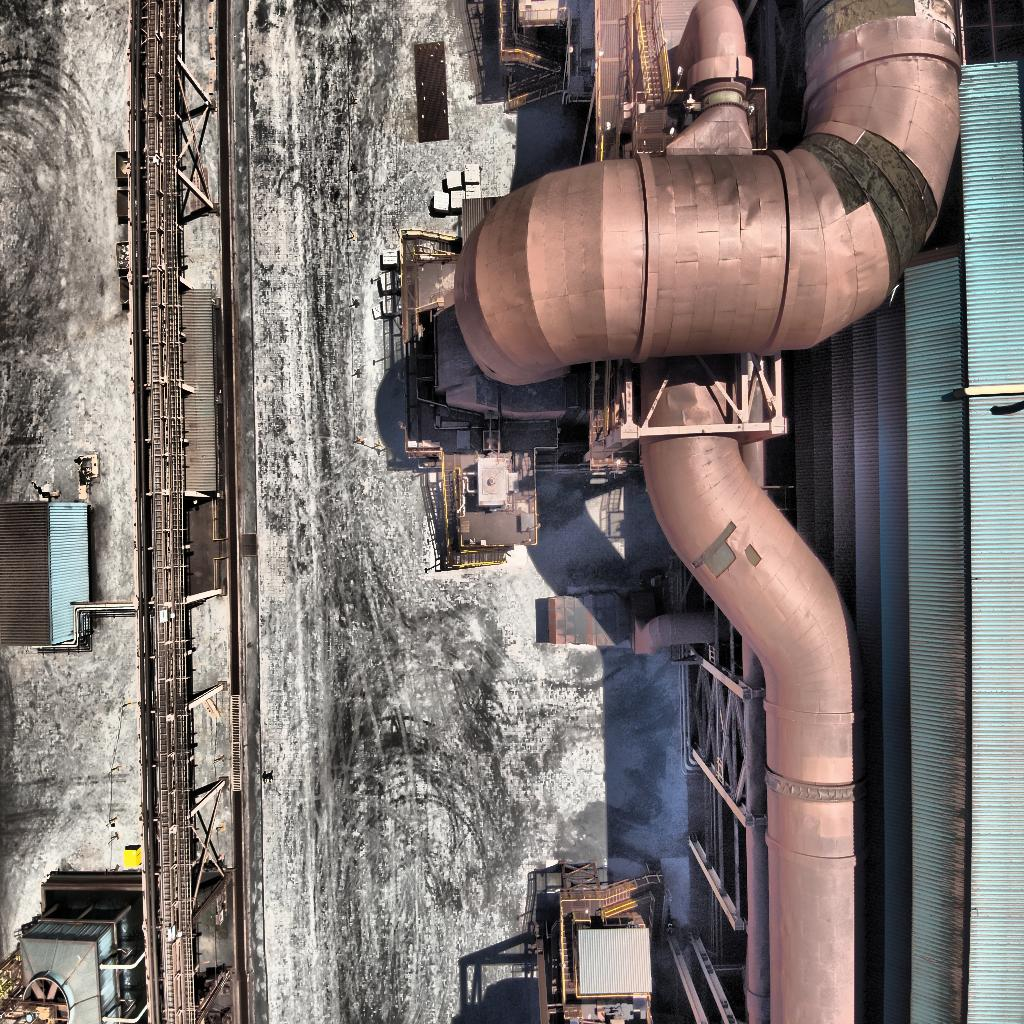Failures: (801, 130, 938, 274), (799, 1, 918, 45), (686, 524, 742, 576), (745, 544, 762, 568)
